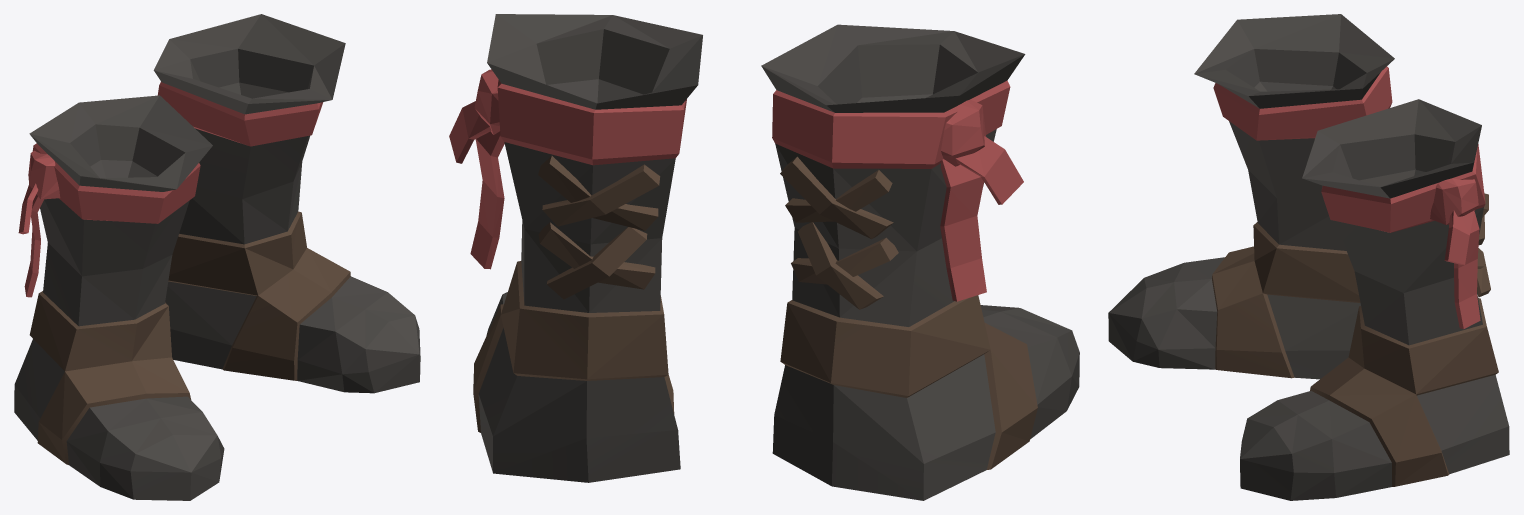
File: bootsAssassinDisplay.fbx
The picture shows the model from 3 angles, left to right: view 1: azimuth 30°, elevation 25°; view 2: azimuth 150°, elevation 25°; view 3: azimuth 270°, elevation 25°; orthographic projection. The views are drawn at different scales.
Parts seen in each view (by area): view 1: bootsAssassinDisplay; view 2: bootsAssassinDisplay; view 3: bootsAssassinDisplay.
Part boxes in pixels (left/top/right/bottom): bootsAssassinDisplay: left=14, top=14, right=420, bottom=500; bootsAssassinDisplay: left=449, top=14, right=1079, bottom=500; bootsAssassinDisplay: left=1108, top=14, right=1509, bottom=500.
Bounding box in the file's own units: 1.52 × 1.1 × 1.31.
